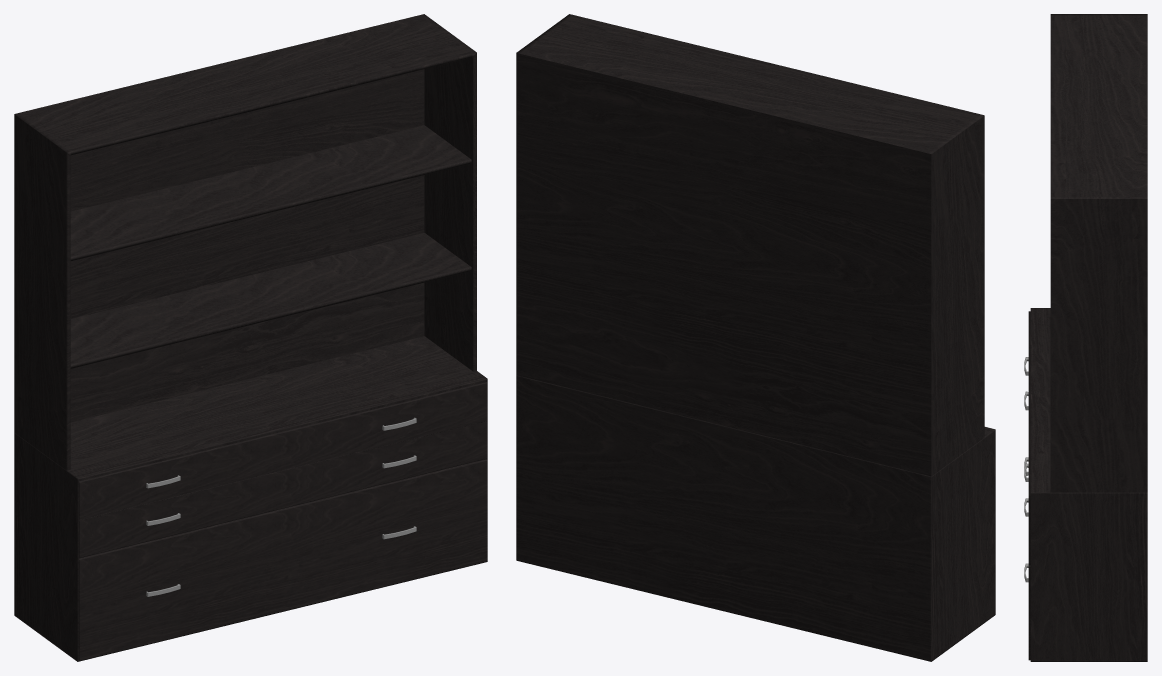
Rendered from Bookshelf_Openable.FBX.
3 views of the same model, side by side, from view 1: azimuth 30°, elevation 25°; view 2: azimuth 150°, elevation 25°; view 3: azimuth 270°, elevation 25° (orthographic). The views are drawn at different scales.
Parts seen in each view (by area): view 1: BookShelf_Openable, Bookshelf_Drawer_Large, Bookshelf_Drawer_Small_B, Bookshelf_Drawer_Small_A; view 2: BookShelf_Openable; view 3: BookShelf_Openable, Bookshelf_Drawer_Small_B, Bookshelf_Drawer_Large, Bookshelf_Drawer_Small_A.
Boxes of the visible parts, x1,y1,x2,y2 form: BookShelf_Openable: [14, 14, 487, 661]; Bookshelf_Drawer_Large: [78, 459, 487, 661]; Bookshelf_Drawer_Small_B: [78, 382, 487, 520]; Bookshelf_Drawer_Small_A: [78, 421, 487, 558]; BookShelf_Openable: [516, 14, 995, 661]; BookShelf_Openable: [1030, 14, 1147, 661]; Bookshelf_Drawer_Small_B: [1024, 311, 1030, 529]; Bookshelf_Drawer_Large: [1024, 457, 1030, 660]; Bookshelf_Drawer_Small_A: [1024, 391, 1030, 564].
Bounding box in the file's own units: 201 × 235 × 56.72.
Materials: 2 (1 with a texture image).
